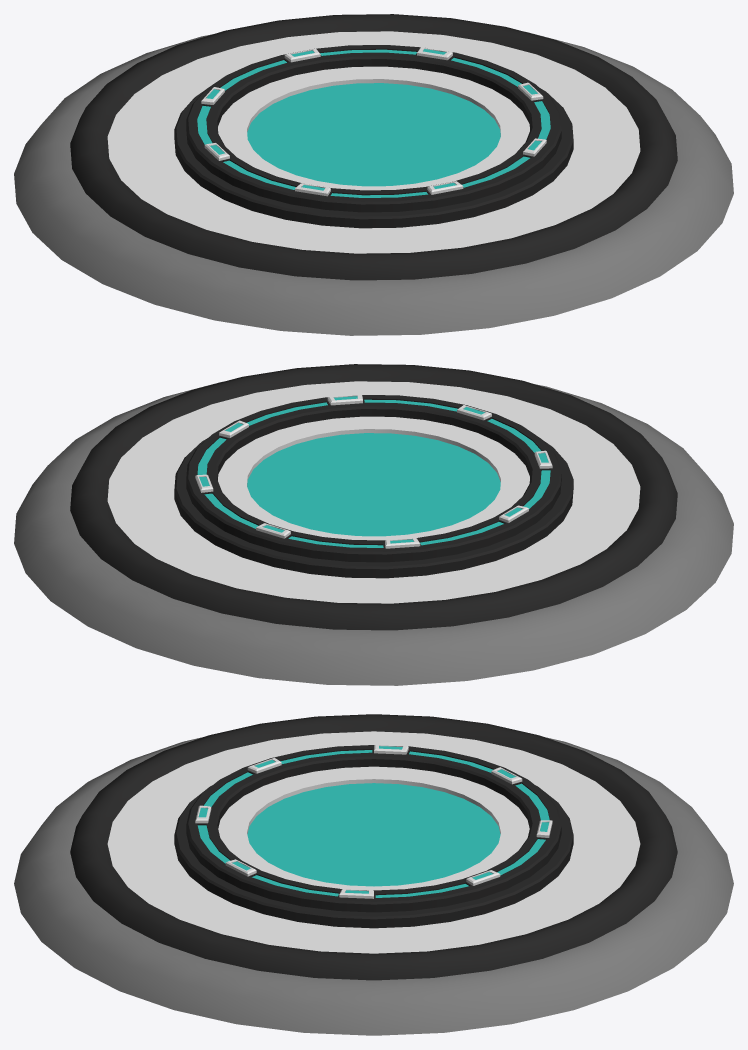
The model's file is ItemSpawner.fbx.
3 renders of one model, top to bottom at view 1: azimuth 30°, elevation 25°; view 2: azimuth 150°, elevation 25°; view 3: azimuth 270°, elevation 25°, orthographic.
Visible parts, largest first — view 1: Cylinder; view 2: Cylinder; view 3: Cylinder.
Part boxes in pixels (x1,y1,x2,y2): Cylinder: [14, 14, 733, 335]; Cylinder: [14, 364, 733, 685]; Cylinder: [14, 714, 733, 1035].
Bounding box in the file's own units: 200 × 19.64 × 200.
